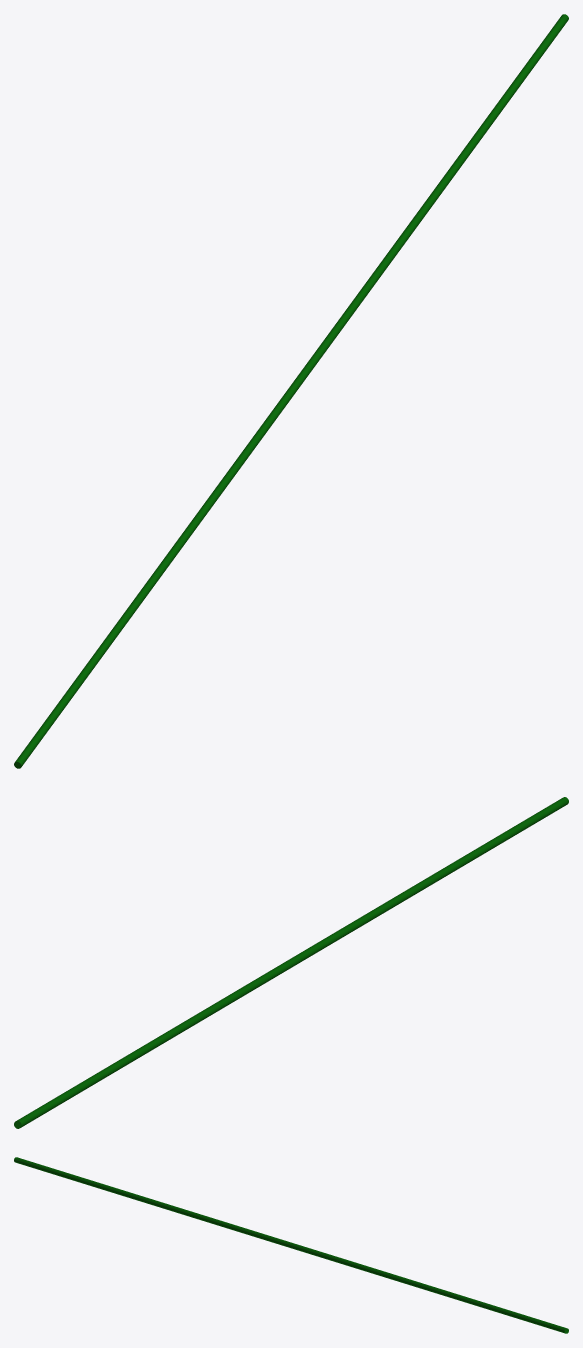
The model's file is Event_191826238_jet_0.fbx.
3 renders of one model, top to bottom at view 1: azimuth 30°, elevation 25°; view 2: azimuth 210°, elevation 25°; view 3: azimuth 270°, elevation 25°, orthographic. The views are drawn at different scales.
Visible parts, largest first — view 1: Model; view 2: Model; view 3: Model.
Part boxes in pixels (<box>): Model: <box>14,14,568,768</box>; Model: <box>14,797,568,1128</box>; Model: <box>14,1157,568,1333</box>.
Size of the model in its own units: 5.35 by 1.16 by 4.
